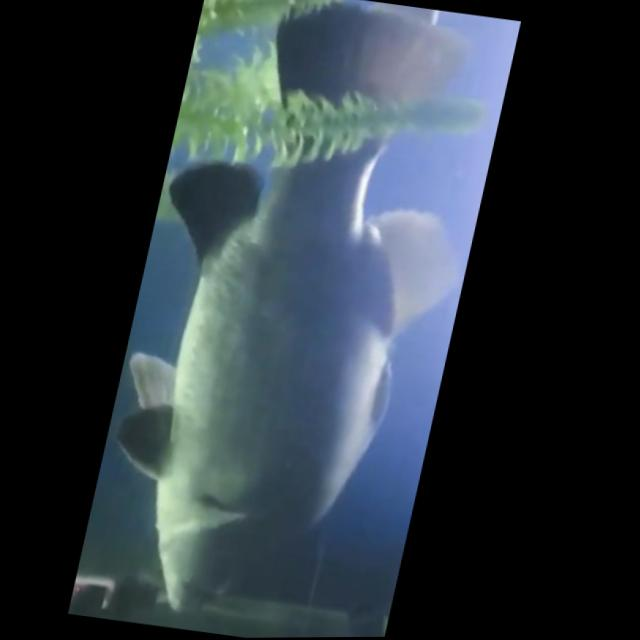Seabass: (74, 0, 520, 639)
